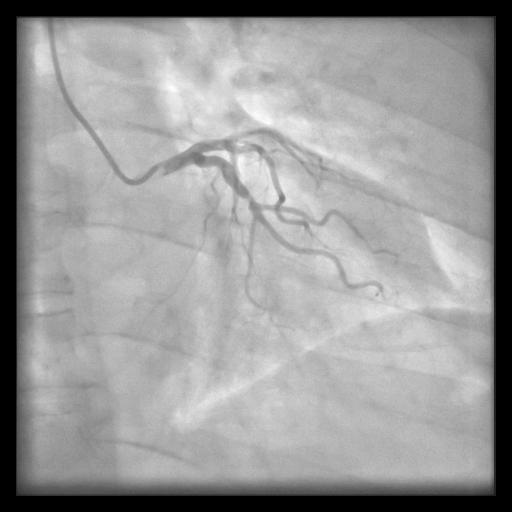Stenosis: (244, 187, 253, 209)
